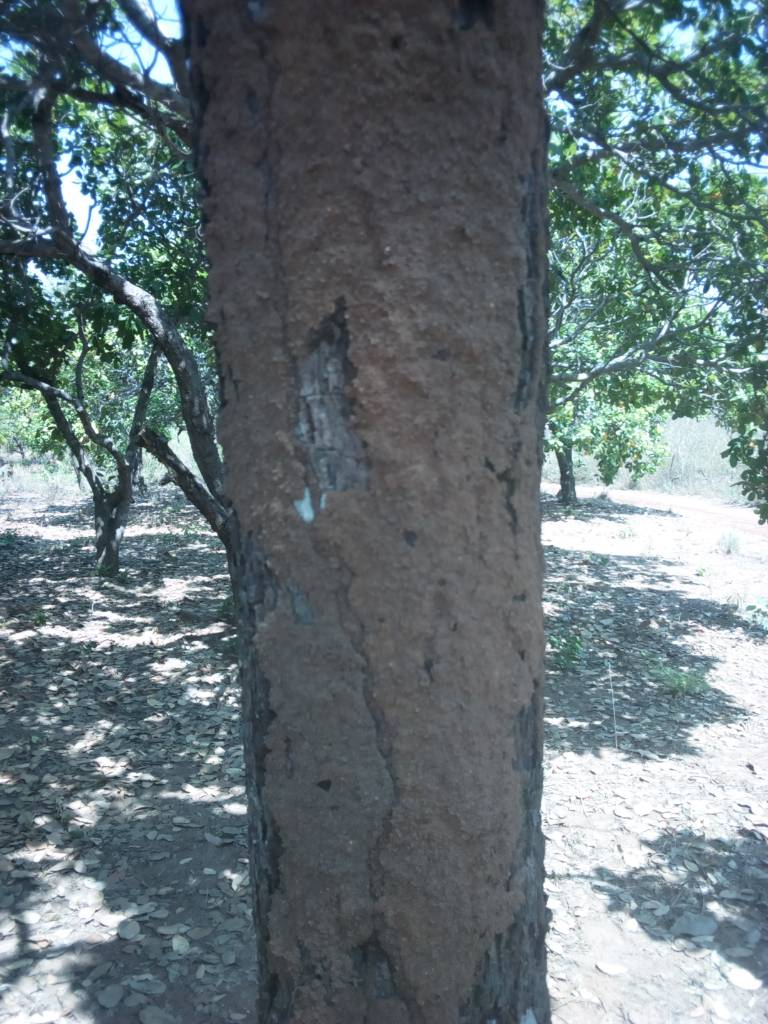Termites: (216, 3, 561, 1017)
